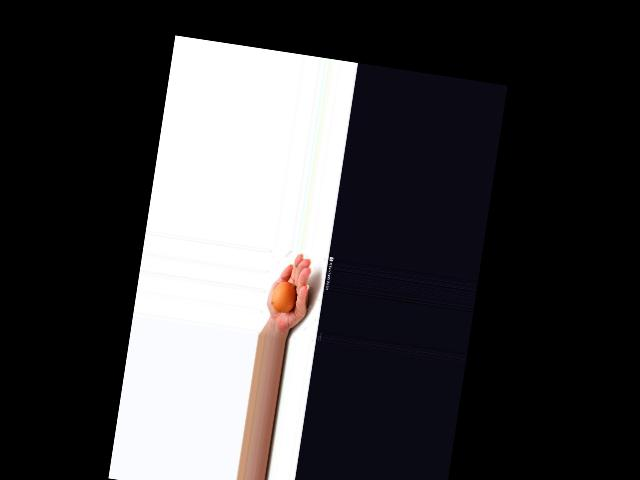egg: (269, 280, 298, 315)
